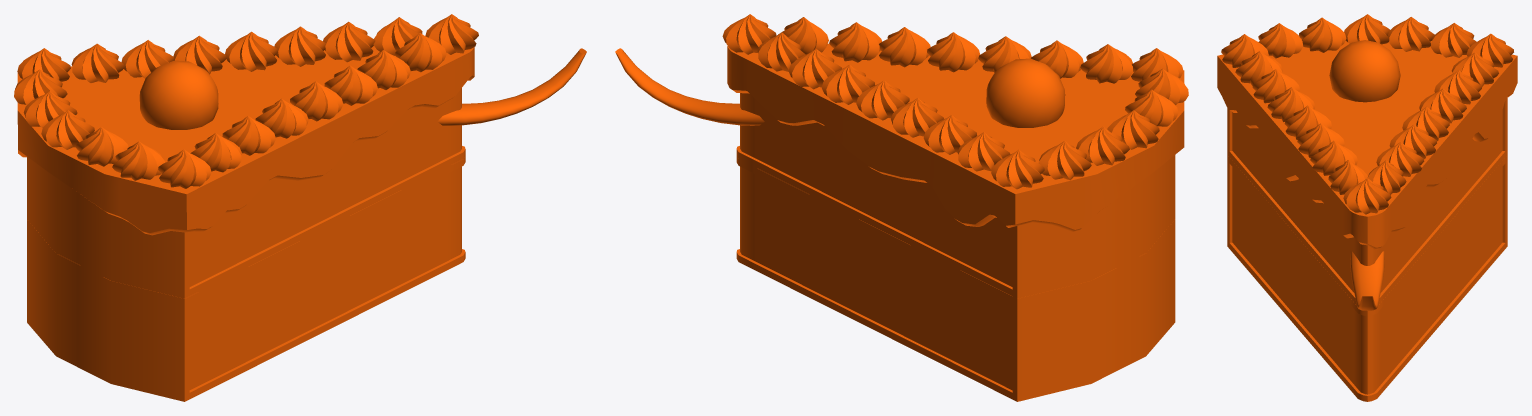
Rendered from Pastel_Mimic.fbx.
3 views of the same model, side by side, from view 1: azimuth 30°, elevation 25°; view 2: azimuth 150°, elevation 25°; view 3: azimuth 270°, elevation 25° (orthographic). The views are drawn at different scales.
Visible parts, largest first — view 1: Pastel_Arriba, Pastel_Abajo, lengua; view 2: Pastel_Arriba, Pastel_Abajo, lengua; view 3: Pastel_Arriba, Pastel_Abajo, lengua.
Boxes of the visible parts, bbox=[...] form: Pastel_Arriba: bbox=[14, 14, 478, 298]; Pastel_Abajo: bbox=[27, 156, 465, 401]; lengua: bbox=[437, 48, 586, 125]; Pastel_Arriba: bbox=[722, 14, 1188, 298]; Pastel_Abajo: bbox=[736, 156, 1175, 401]; lengua: bbox=[615, 48, 764, 125]; Pastel_Arriba: bbox=[1217, 14, 1517, 305]; Pastel_Abajo: bbox=[1227, 155, 1507, 401]; lengua: bbox=[1350, 251, 1384, 310].
Size of the model in its own units: 1.77 by 0.8249 by 0.9581.
